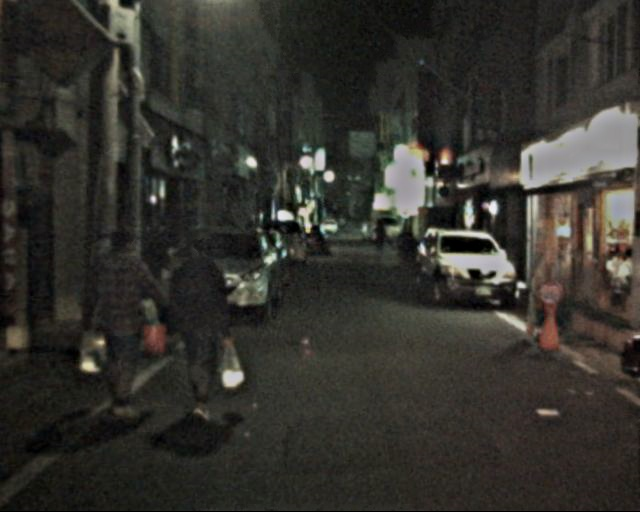person: (81, 224, 167, 426), (161, 234, 242, 433), (372, 218, 390, 260)
